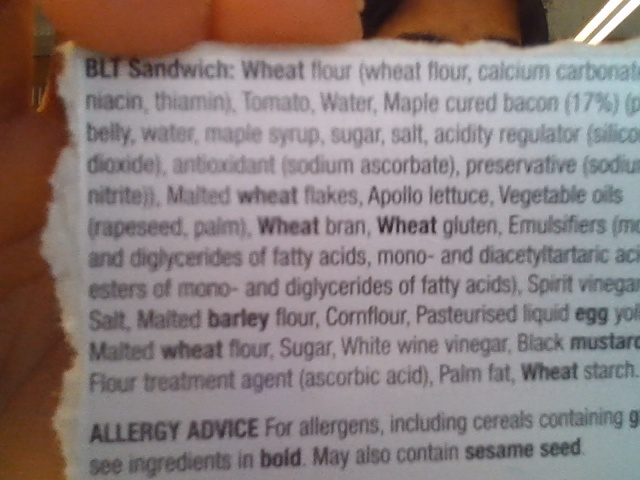egg: (573, 308, 610, 326)
wheat: (261, 215, 319, 238), (377, 215, 439, 235)
